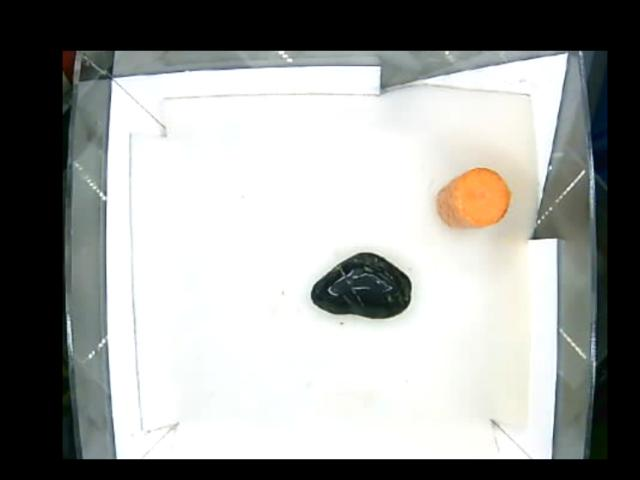Carrot: (436, 165, 513, 231)
Pebble: (309, 252, 411, 317)
